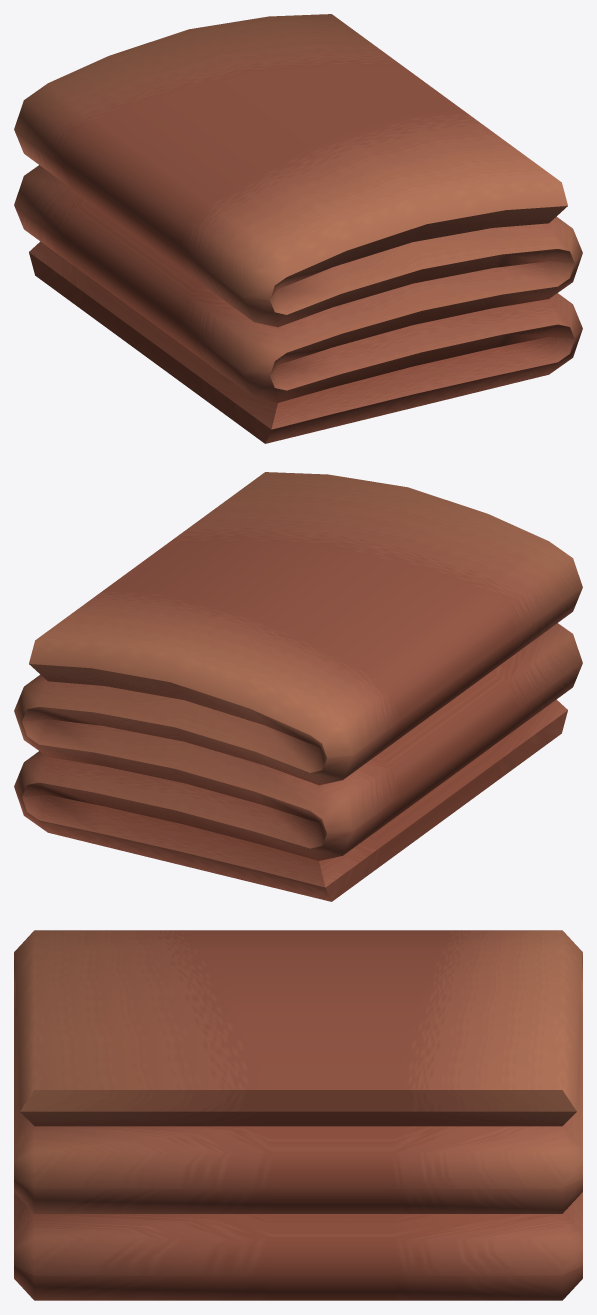
The model's file is Textiles_A.gltf.
The picture shows the model from 3 angles, top to bottom: view 1: azimuth 30°, elevation 25°; view 2: azimuth 150°, elevation 25°; view 3: azimuth 270°, elevation 25°; orthographic projection. The views are drawn at different scales.
Parts seen in each view (by area): view 1: Textiles_A; view 2: Textiles_A; view 3: Textiles_A.
Part boxes in pixels (<box>): Textiles_A: <box>14,14,582,443</box>; Textiles_A: <box>14,472,582,901</box>; Textiles_A: <box>14,930,582,1300</box>.
Size of the model in its own units: 0.75 by 0.4413 by 0.95.
Materials: 1 (1 with a texture image).
